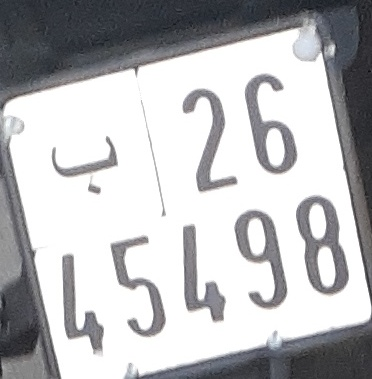2: (181, 88, 241, 194)
4: (59, 252, 108, 358), (176, 225, 229, 323)
5: (110, 237, 171, 339)
6: (242, 73, 304, 174)
8: (292, 194, 352, 296)
9: (234, 208, 290, 309)
b: (49, 131, 118, 196)
